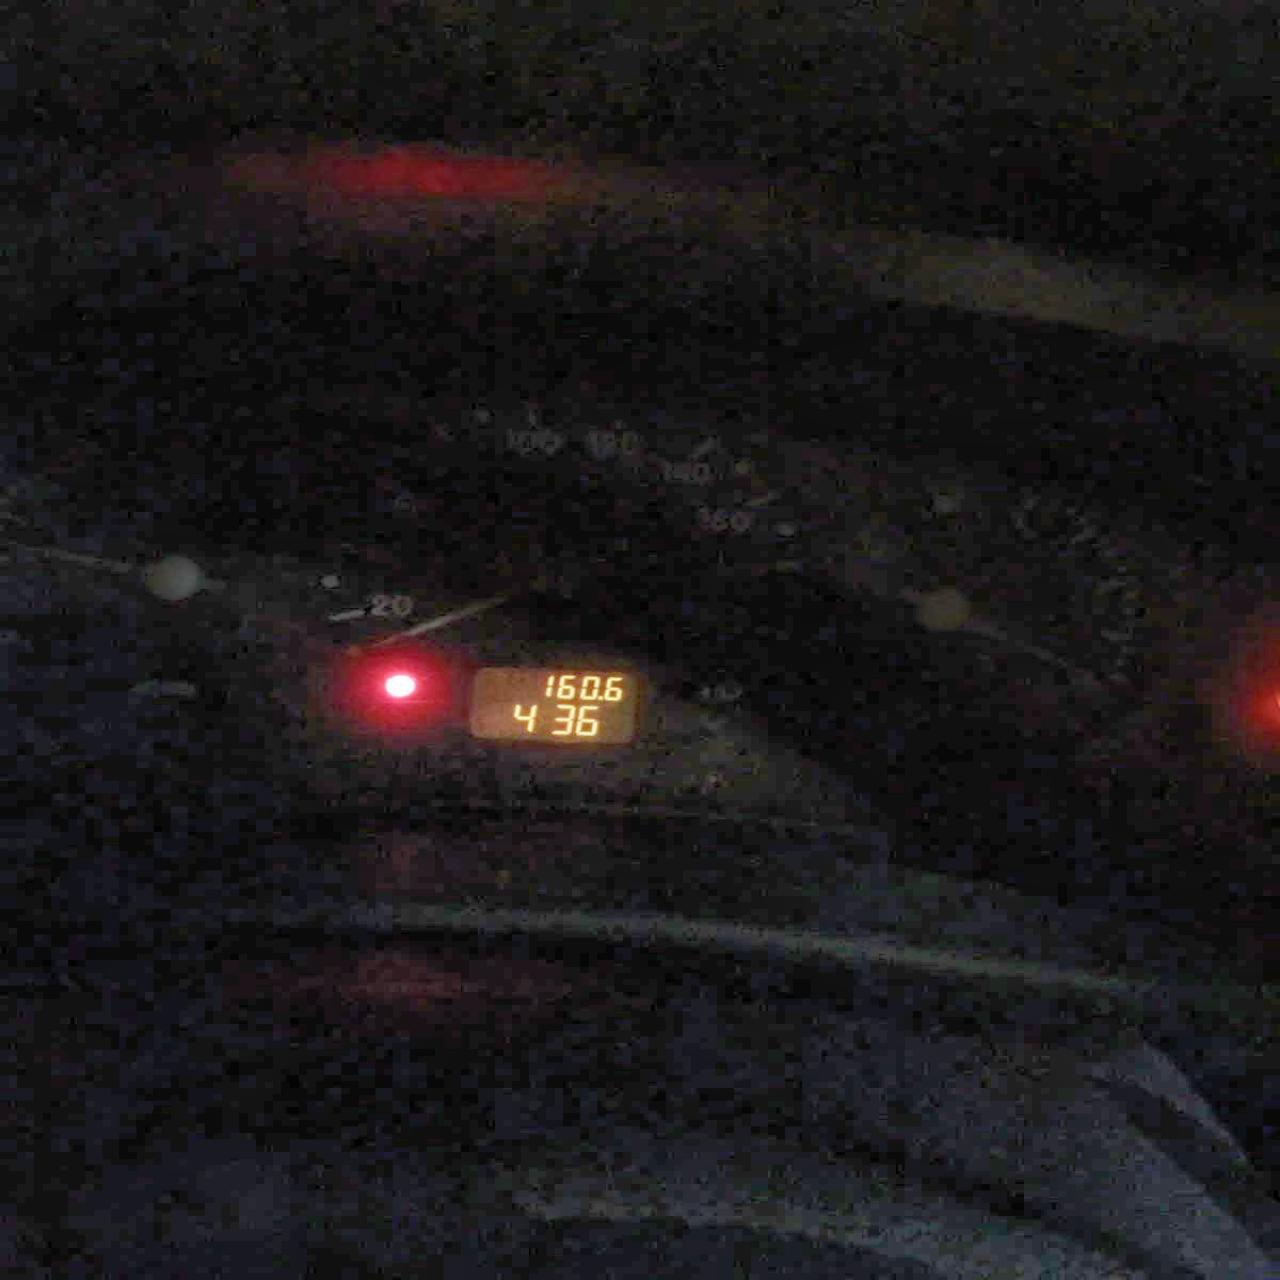-: (597, 694, 602, 701)
0: (578, 675, 600, 700)
1: (544, 674, 554, 697)
3: (550, 703, 576, 735)
4: (512, 703, 538, 731)
6: (573, 704, 598, 735), (556, 674, 577, 700), (604, 676, 622, 701)
odometer: (468, 663, 639, 745)
